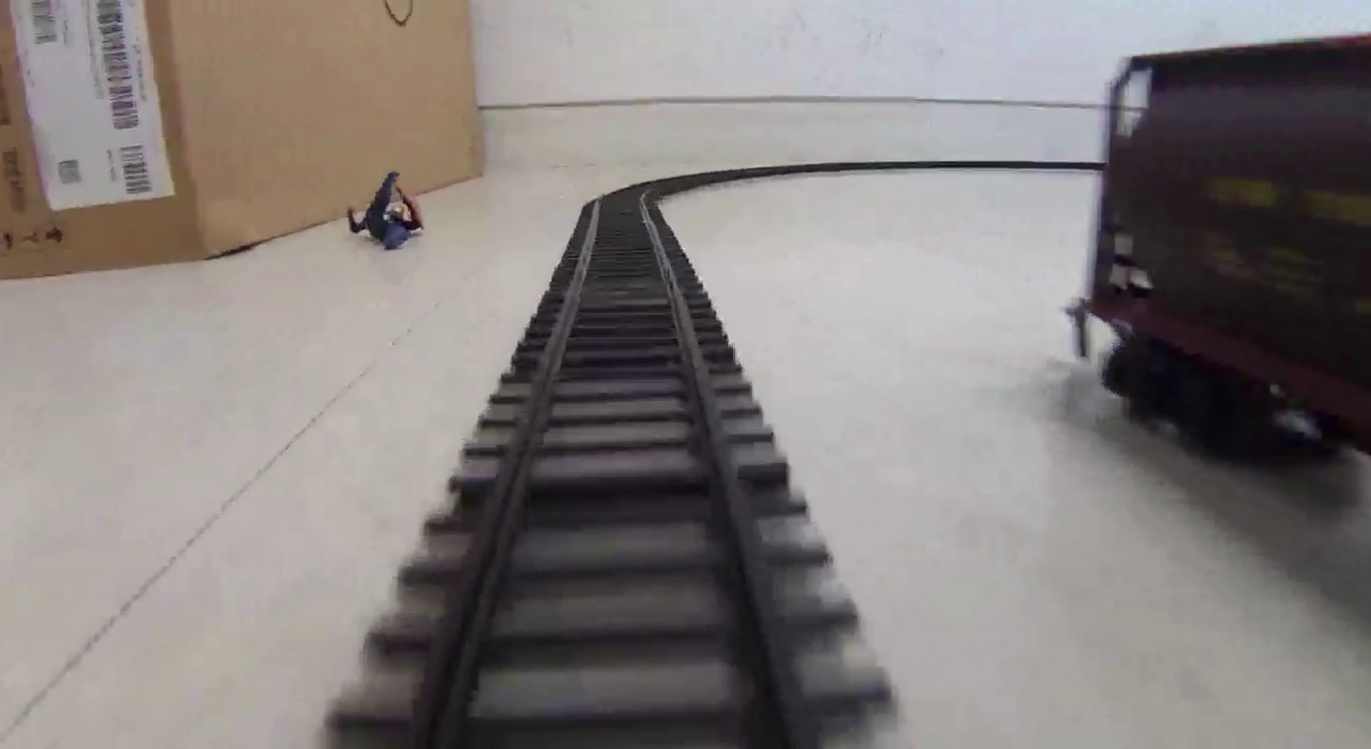people: (348, 171, 425, 250)
